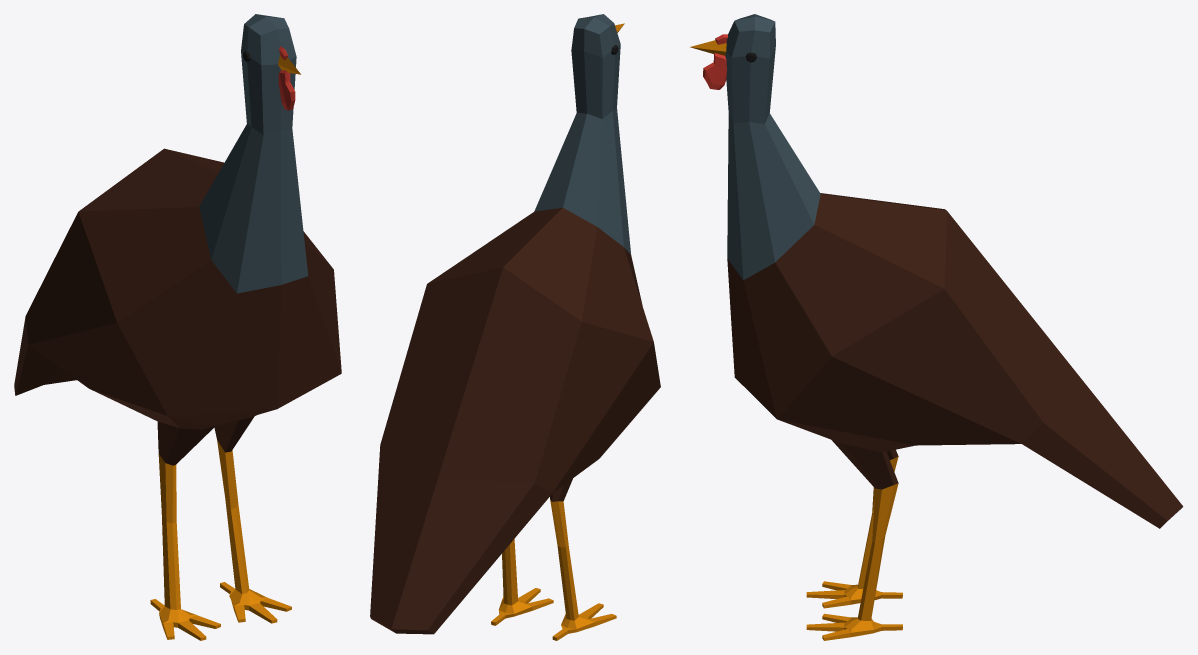
File: Turkey_01.fbx
3 renders of one model, left to right at view 1: azimuth 30°, elevation 25°; view 2: azimuth 150°, elevation 25°; view 3: azimuth 270°, elevation 25°, orthographic. The views are drawn at different scales.
Visible parts, largest first — view 1: Turkey_01; view 2: Turkey_01; view 3: Turkey_01.
Boxes of the visible parts, box(x1,y1,x2,y2) form: Turkey_01: box(14, 14, 341, 640); Turkey_01: box(370, 14, 660, 640); Turkey_01: box(690, 14, 1183, 640).
Size of the model in its own units: 4.37 by 12.24 by 9.19.
